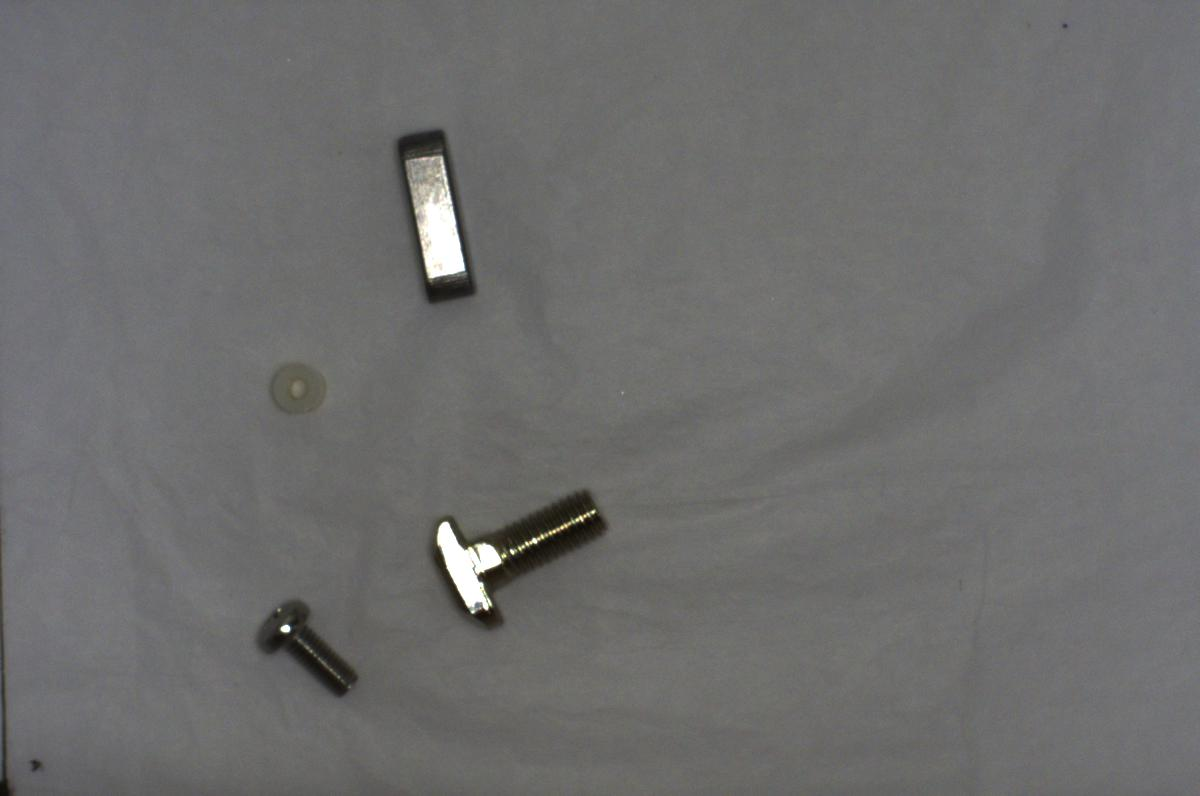Keybar: (385, 115, 490, 309)
Plastic cushion pillar: (259, 349, 331, 421)
Round head screw: (247, 587, 397, 722)
T-shaped screw: (412, 474, 622, 646)
